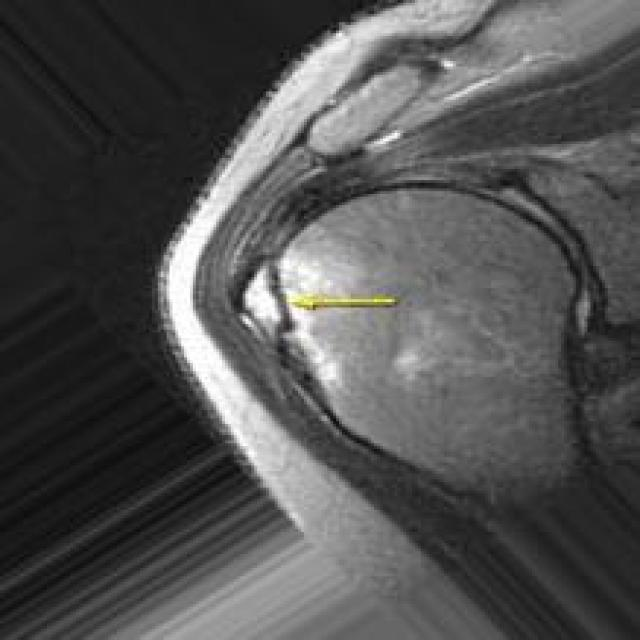Transverse Displaced: (244, 244, 326, 384)
